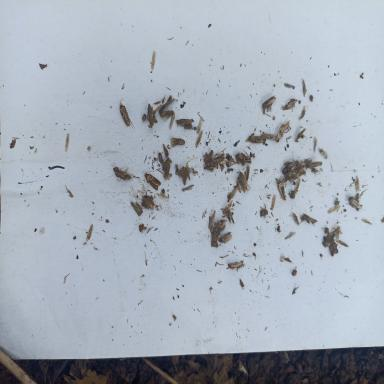pbw: (144, 170, 161, 190), (160, 110, 176, 128), (163, 157, 173, 181), (239, 171, 249, 194), (210, 152, 226, 166), (276, 124, 288, 142), (248, 132, 264, 144), (262, 95, 276, 108), (306, 160, 323, 170), (228, 184, 238, 200), (142, 197, 154, 210), (350, 197, 362, 210), (170, 136, 185, 146), (176, 118, 194, 126), (220, 232, 232, 243), (287, 160, 298, 172)
